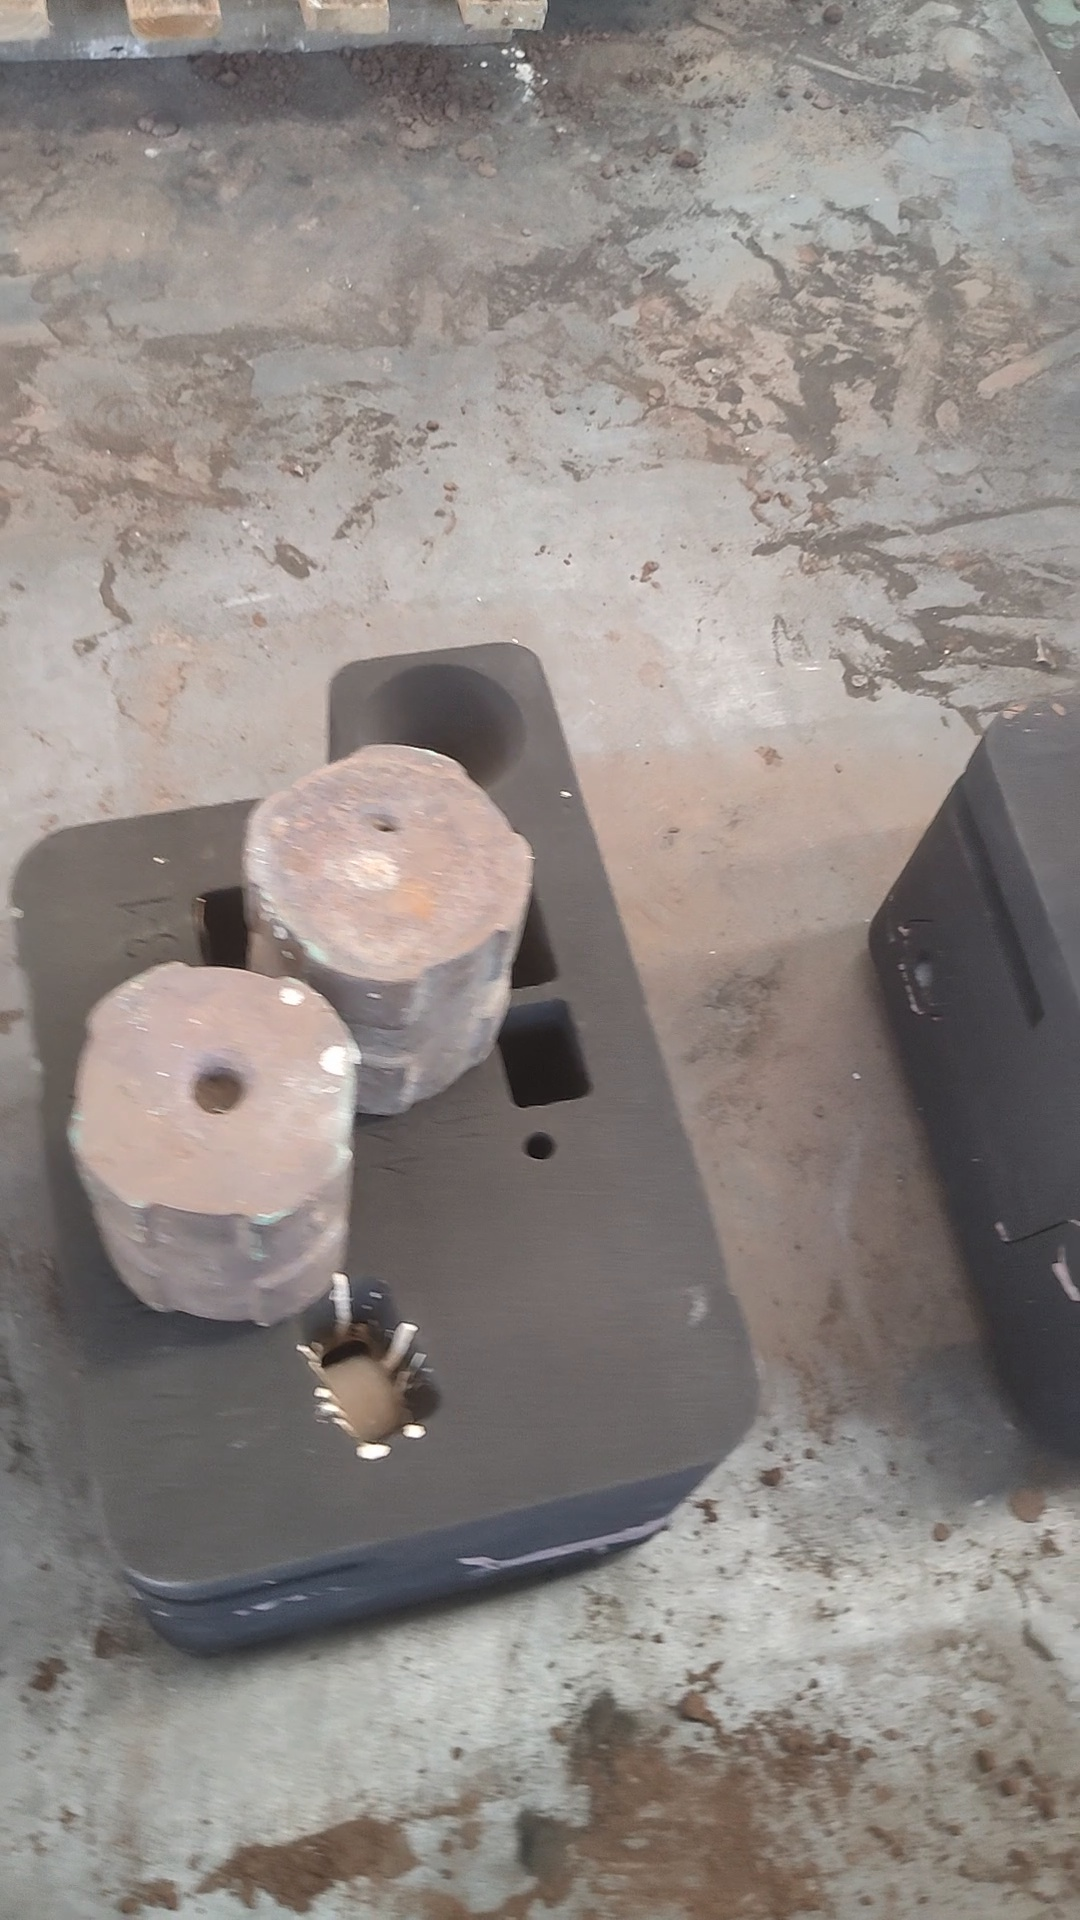pouring hole: (349, 662, 529, 795)
